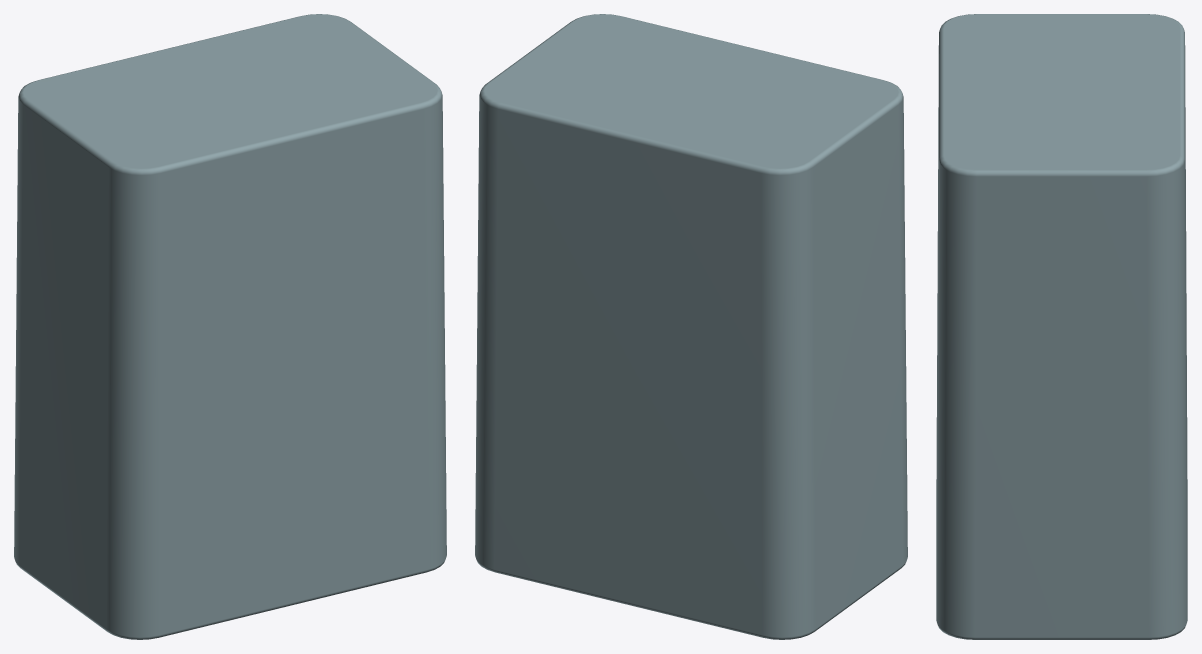
File: case10_fer_vapeur_multimat_spatial_decomposed.glb
The picture shows the model from 3 angles, left to right: view 1: azimuth 30°, elevation 25°; view 2: azimuth 150°, elevation 25°; view 3: azimuth 270°, elevation 25°; orthographic projection.
Visible parts, largest first — view 1: Socle_Inferieur; view 2: Socle_Inferieur; view 3: Socle_Inferieur.
Boxes of the visible parts, x1=… form: Socle_Inferieur: x1=14, y1=14, x2=446, y2=639; Socle_Inferieur: x1=475, y1=14, x2=907, y2=639; Socle_Inferieur: x1=936, y1=14, x2=1187, y2=639.
Size of the model in its own units: 0.1495 by 0.2 by 0.0972.
